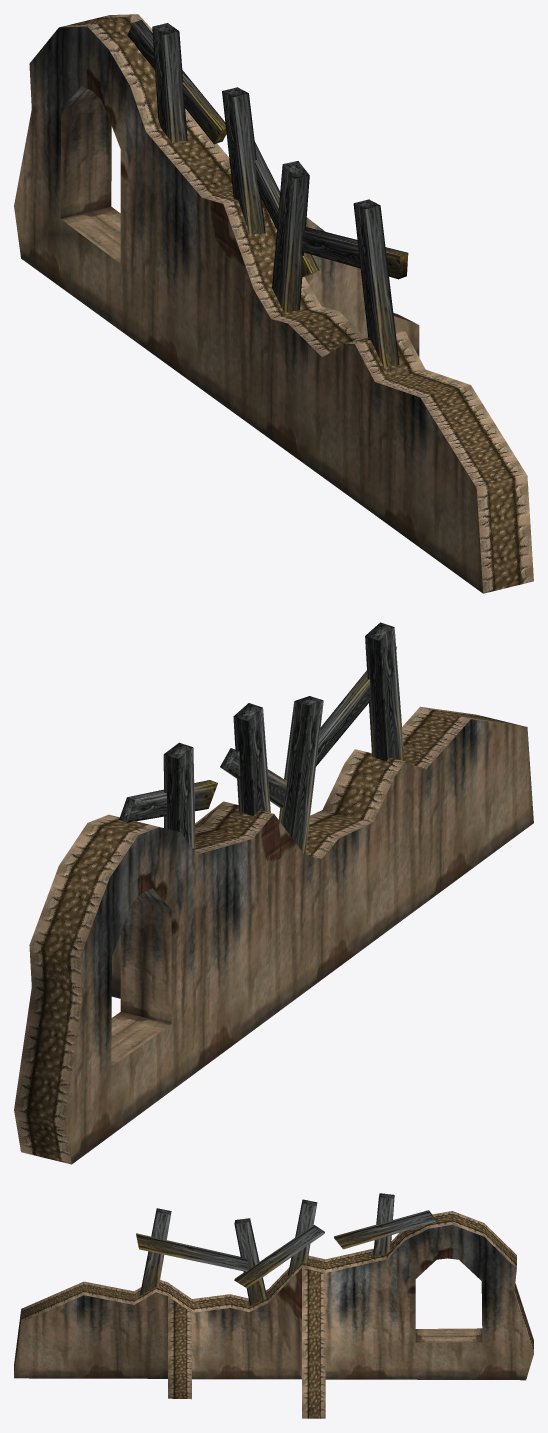
The model's file is CB_BRKN_BUILDING01_CM.fbx.
The picture shows the model from 3 angles, top to bottom: view 1: azimuth 30°, elevation 25°; view 2: azimuth 150°, elevation 25°; view 3: azimuth 270°, elevation 25°; orthographic projection. The views are drawn at different scales.
Parts seen in each view (by area): view 1: CB_BRKN_BUILDING01_CM; view 2: CB_BRKN_BUILDING01_CM; view 3: CB_BRKN_BUILDING01_CM.
Boxes of the visible parts, box(x1,y1,x2,y2) form: CB_BRKN_BUILDING01_CM: box(14, 14, 533, 593); CB_BRKN_BUILDING01_CM: box(14, 622, 533, 1164); CB_BRKN_BUILDING01_CM: box(14, 1193, 533, 1418).
Size of the model in its own units: 56217 by 87296 by 233180.
4 materials, 4 textured.
